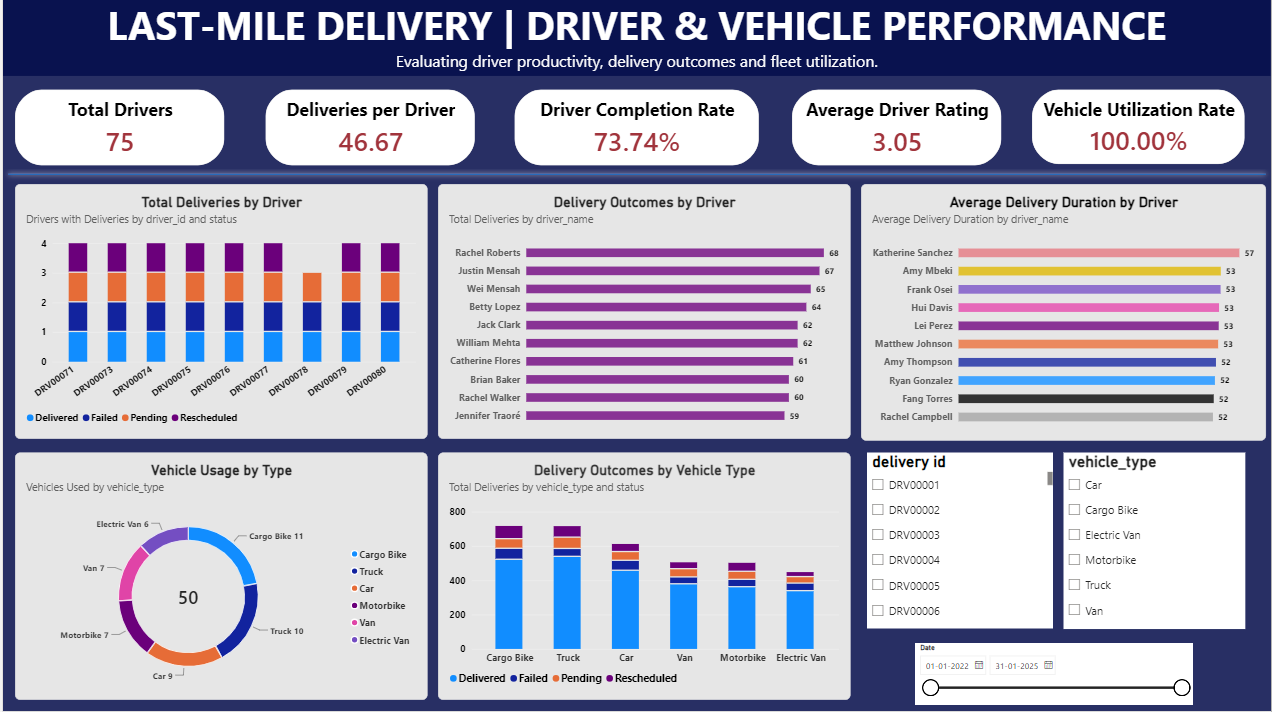

This screenshot's page, from the dashboard's own definition file:
{"tool":"powerbi","page":{"name":"Page 5","canvas":[1920,1080],"ordinal":4},"visuals":[{"type":"textbox","box":[0,0,1919.3,118.1],"z":0},{"type":"cardVisual","fields":{"Data":["Driver and Vehicle Performance.Drivers with Deliveries"]},"box":[17.5,137.5,317.5,115],"z":1000},{"type":"cardVisual","fields":{"Data":["Driver and Vehicle Performance.Deliveries per Driver"]},"box":[397.5,137.5,317.5,115],"z":2000},{"type":"cardVisual","fields":{"Data":["Driver and Vehicle Performance.Driver Completion Rate"]},"box":[775,137.5,370,115],"z":3000},{"type":"cardVisual","fields":{"Data":["Driver and Vehicle Performance.Average Driver Rating"]},"box":[1195,137.5,317.5,115],"z":4000},{"type":"cardVisual","fields":{"Data":["Driver and Vehicle Performance.Vehicle Utilization Rate"]},"box":[1558.1,138.5,322.5,113.6],"z":5000},{"type":"shape","box":[0,254.4,1920,25],"z":6000},{"type":"columnChart","title":"Total Deliveries by Driver","fields":{"Category":["drivers.driver_id"],"Series":["deliveries.status"],"Y":["Driver and Vehicle Performance.Drivers with Deliveries"]},"box":[18.2,281.6,624.6,386.1],"z":7000},{"type":"barChart","title":"Delivery Outcomes by Driver","fields":{"Category":["drivers.driver_name"],"Y":["Delivery Performance.Total Deliveries"]},"box":[658.7,281.6,624.6,386.1],"z":8000},{"type":"clusteredBarChart","title":"Average Delivery Duration by Driver","fields":{"Category":["drivers.driver_name"],"Y":["Delivery Performance.Average Delivery Duration"]},"box":[1299.2,281.6,613.3,388.4],"z":9000},{"type":"donutChart","title":"Vehicle Usage by Type","fields":{"Category":["vehicles.vehicle_type"],"Y":["Driver and Vehicle Performance.Vehicles Used"]},"box":[18.2,688.2,624.6,374.8],"z":10000},{"type":"columnChart","title":"Delivery Outcomes by Vehicle Type","fields":{"Category":["vehicles.vehicle_type"],"Series":["deliveries.status"],"Y":["Delivery Performance.Total Deliveries"]},"box":[658.7,688.2,624.6,374.8],"z":11000},{"type":"slicer","fields":{"Values":["date_table.Date"]},"box":[1381,976.7,420.2,93.1],"z":12000},{"type":"slicer","fields":{"Values":["drivers.driver_id"]},"box":[1307.5,687.5,281.6,265.7],"z":13000},{"type":"slicer","fields":{"Values":["vehicles.vehicle_type"]},"box":[1605,687.5,275,267.5],"z":14000}]}

Visuals, with their boxes in screenshot pixels (x1, y1, x2, y2), scaled from the page's 1920x1080 canvas onto the 1272x712 screenshot:
textbox: bbox=[0, 0, 1271, 78]
cardVisual - Driver and Vehicle Performance.Drivers with Deliveries: bbox=[12, 91, 222, 166]
cardVisual - Driver and Vehicle Performance.Deliveries per Driver: bbox=[263, 91, 474, 166]
cardVisual - Driver and Vehicle Performance.Driver Completion Rate: bbox=[513, 91, 759, 166]
cardVisual - Driver and Vehicle Performance.Average Driver Rating: bbox=[792, 91, 1002, 166]
cardVisual - Driver and Vehicle Performance.Vehicle Utilization Rate: bbox=[1032, 91, 1246, 166]
shape: bbox=[0, 168, 1271, 184]
"Total Deliveries by Driver" columnChart: bbox=[12, 186, 426, 440]
"Delivery Outcomes by Driver" barChart: bbox=[436, 186, 850, 440]
"Average Delivery Duration by Driver" clusteredBarChart: bbox=[861, 186, 1267, 442]
"Vehicle Usage by Type" donutChart: bbox=[12, 454, 426, 701]
"Delivery Outcomes by Vehicle Type" columnChart: bbox=[436, 454, 850, 701]
slicer - date_table.Date: bbox=[915, 644, 1193, 705]
slicer - drivers.driver_id: bbox=[866, 453, 1053, 628]
slicer - vehicles.vehicle_type: bbox=[1063, 453, 1246, 630]
